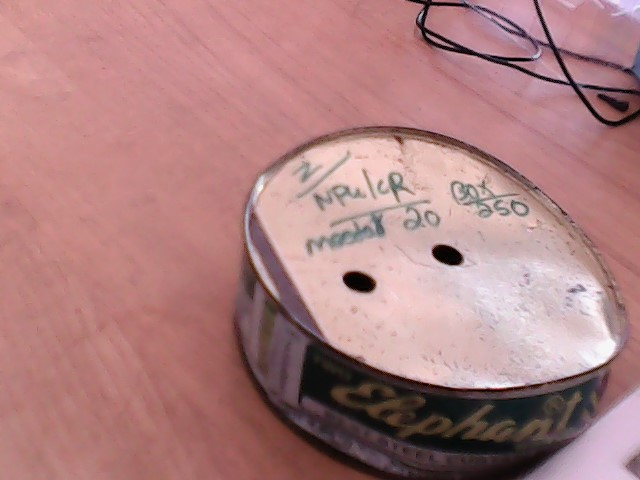Metal: (226, 118, 640, 480)
